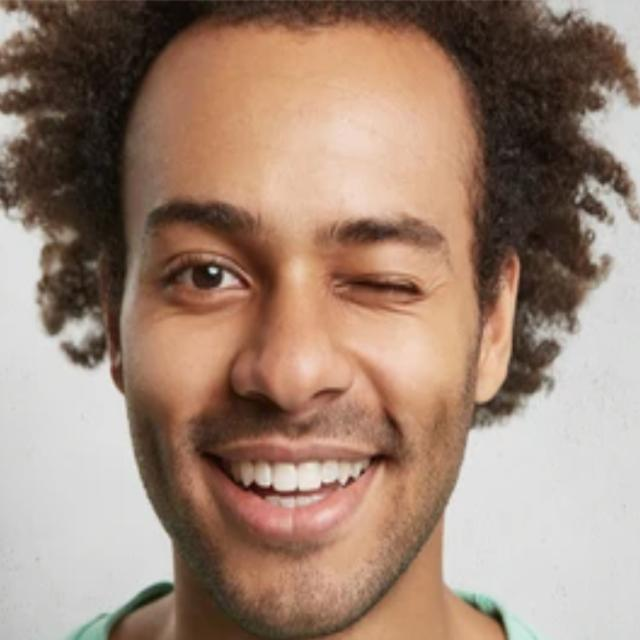close: (306, 204, 469, 325)
